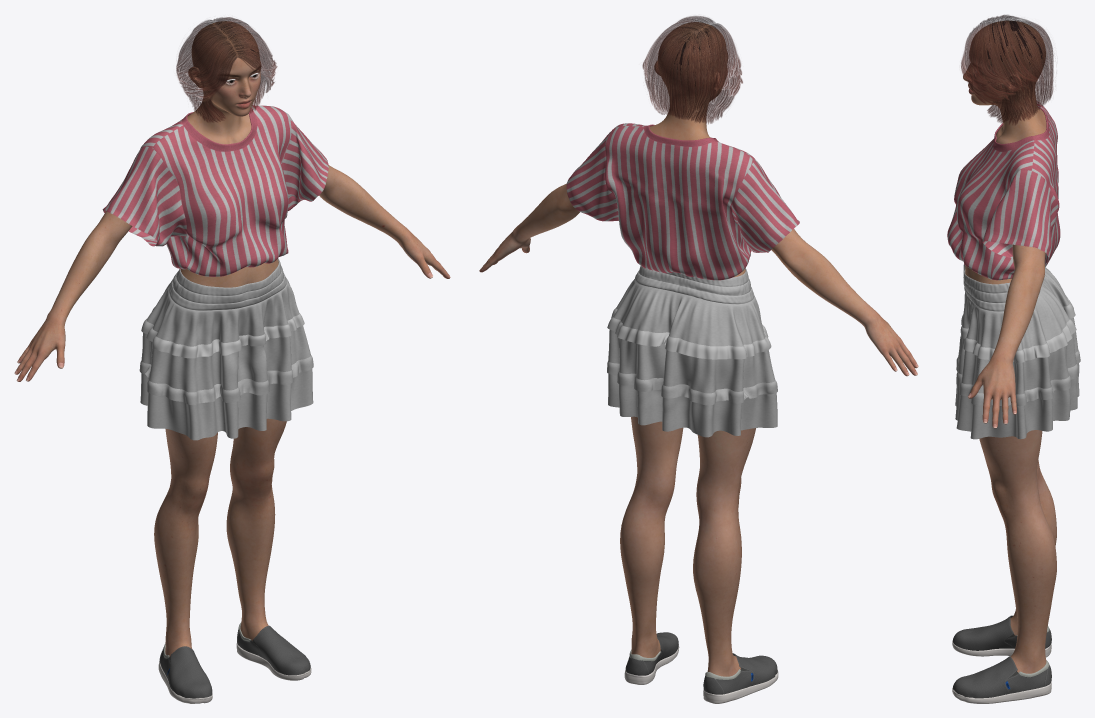
Rendered from elizabeth.glb.
3 views of the same model, side by side, from view 1: azimuth 30°, elevation 25°; view 2: azimuth 150°, elevation 25°; view 3: azimuth 270°, elevation 25° (orthographic).
Visible parts, largest first — view 1: Full_Body, T_Shirt, Skirt, Hair, Shoes; view 2: Full_Body, Skirt, T_Shirt, Hair, Shoes; view 3: Full_Body, Skirt, T_Shirt, Hair, Shoes.
Boxes of the visible parts, x1=… form: Full_Body: x1=14, y1=21, x2=450, y2=656; T_Shirt: x1=102, y1=105, x2=328, y2=276; Skirt: x1=139, y1=258, x2=313, y2=440; Hair: x1=176, y1=17, x2=277, y2=122; Shoes: x1=158, y1=622, x2=311, y2=703; Full_Body: x1=479, y1=22, x2=918, y2=676; Skirt: x1=607, y1=266, x2=777, y2=437; T_Shirt: x1=566, y1=123, x2=799, y2=280; Hair: x1=642, y1=16, x2=742, y2=124; Shoes: x1=624, y1=632, x2=778, y2=703; Full_Body: x1=963, y1=21, x2=1056, y2=673; Skirt: x1=955, y1=264, x2=1080, y2=439; T_Shirt: x1=947, y1=101, x2=1060, y2=280; Hair: x1=961, y1=15, x2=1053, y2=125; Shoes: x1=952, y1=615, x2=1051, y2=703.
Bounding box in the file's own units: 1.19 × 1.72 × 0.3166.
19 materials, 19 textured.
